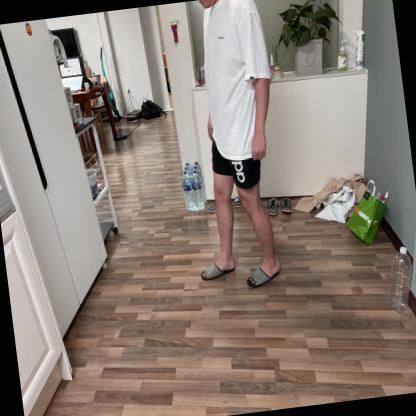no_safety-shoe: (195, 250, 242, 286), (243, 253, 288, 288)
